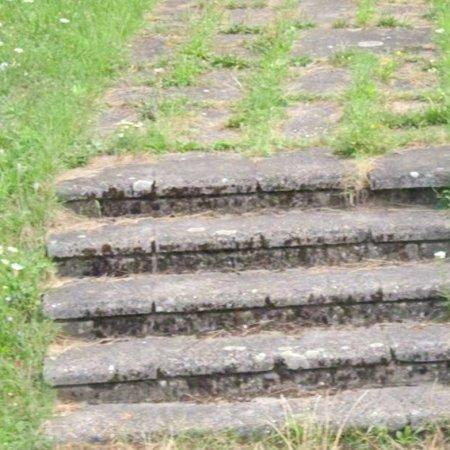stairs: (43, 147, 450, 443)
